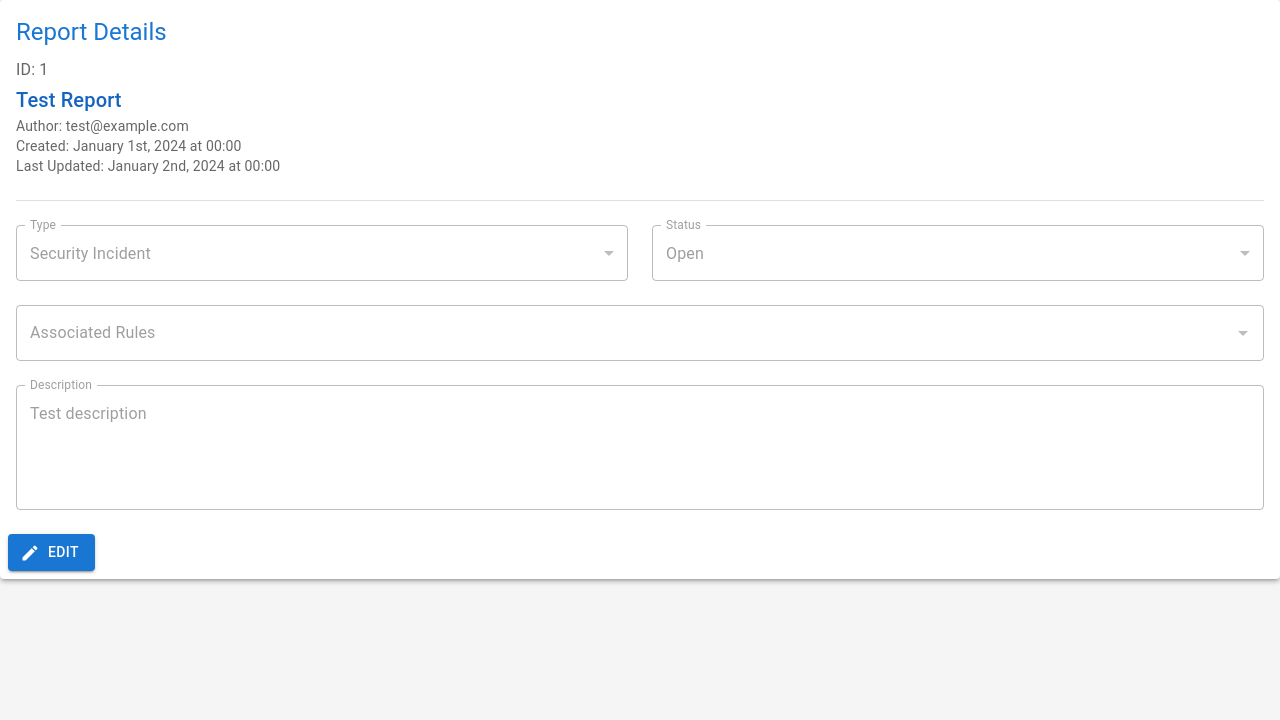
Test: ReportViewer Component › enables edit mode when edit button is clicked
Click the button "Edit".
click(51, 553)  # box [8,534,95,571]
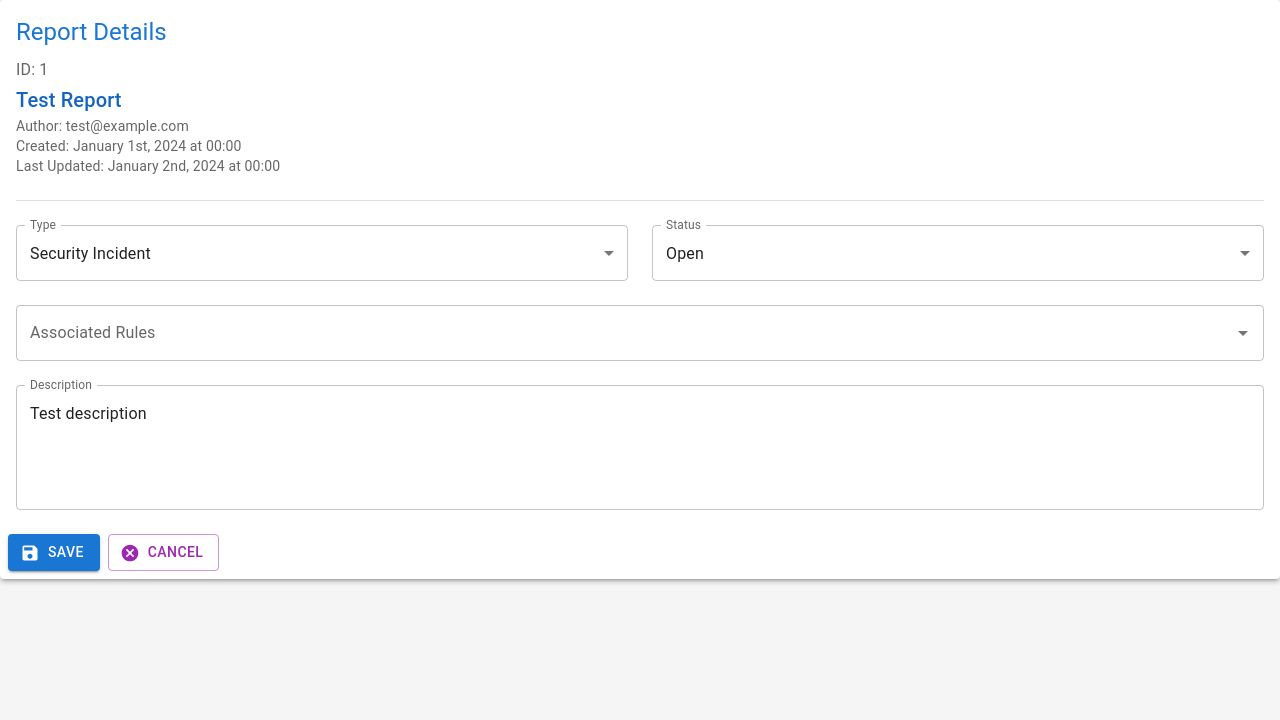
Now the button "Save" is shown, box [8,534,100,571]
